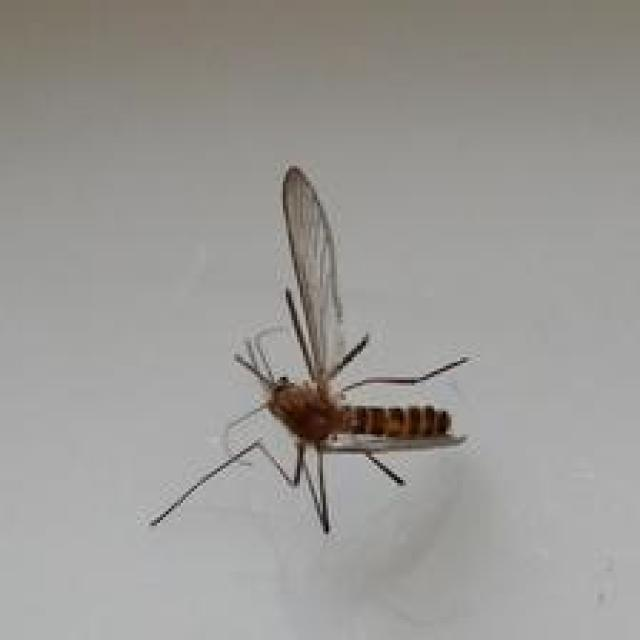Culex: (147, 163, 473, 534)
